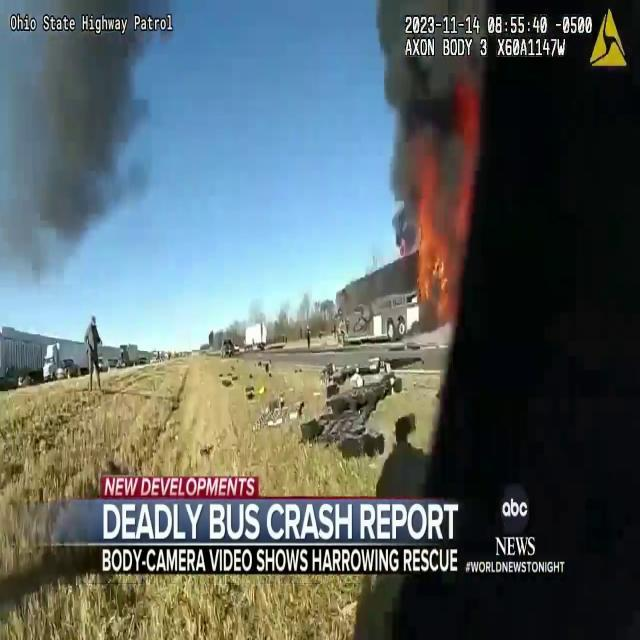Fire: (406, 88, 482, 322)
Smoke: (0, 0, 163, 277)
